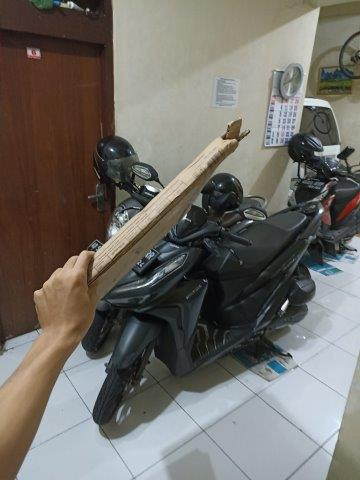kardus: (93, 121, 250, 287)
